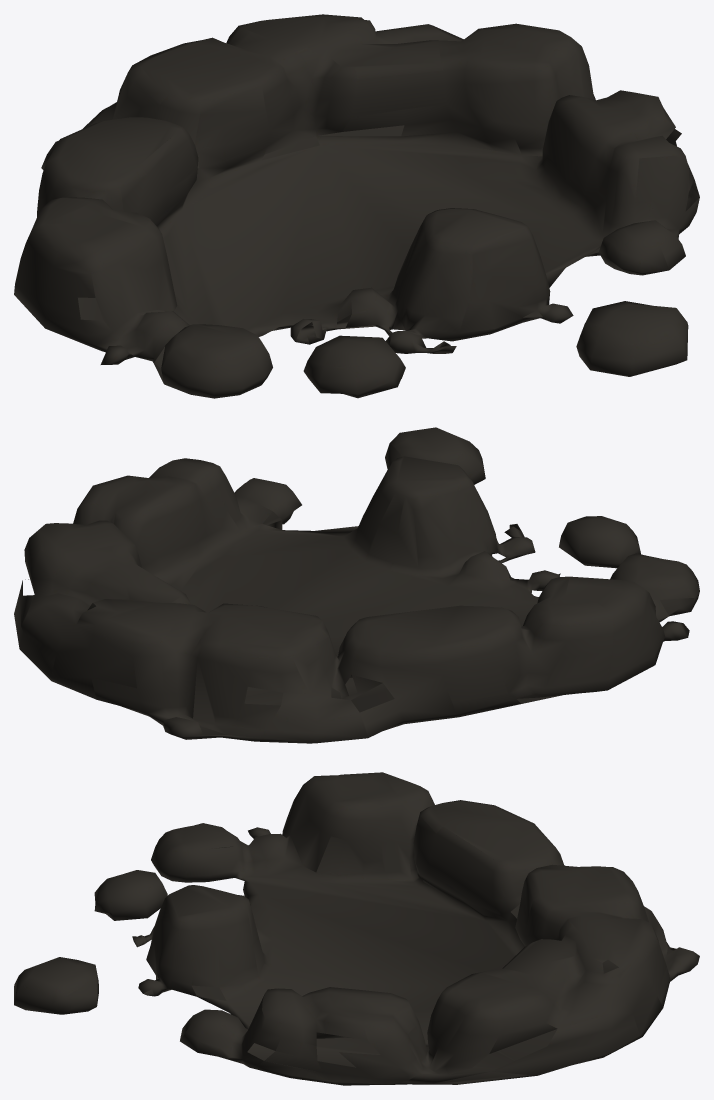
File: circulo_de_rocas.glb
3 renders of one model, top to bottom at view 1: azimuth 30°, elevation 25°; view 2: azimuth 150°, elevation 25°; view 3: azimuth 270°, elevation 25°, orthographic. The views are drawn at different scales.
Parts seen in each view (by area): view 1: circulo_de_rocas; view 2: circulo_de_rocas; view 3: circulo_de_rocas.
Boxes of the visible parts, x1,y1,x2,y2 form: circulo_de_rocas: [14, 14, 699, 398]; circulo_de_rocas: [14, 427, 699, 743]; circulo_de_rocas: [14, 772, 699, 1085].
Size of what is drawn, in the model's own units: 3.58 by 0.4493 by 4.
1 material, 1 textured.
